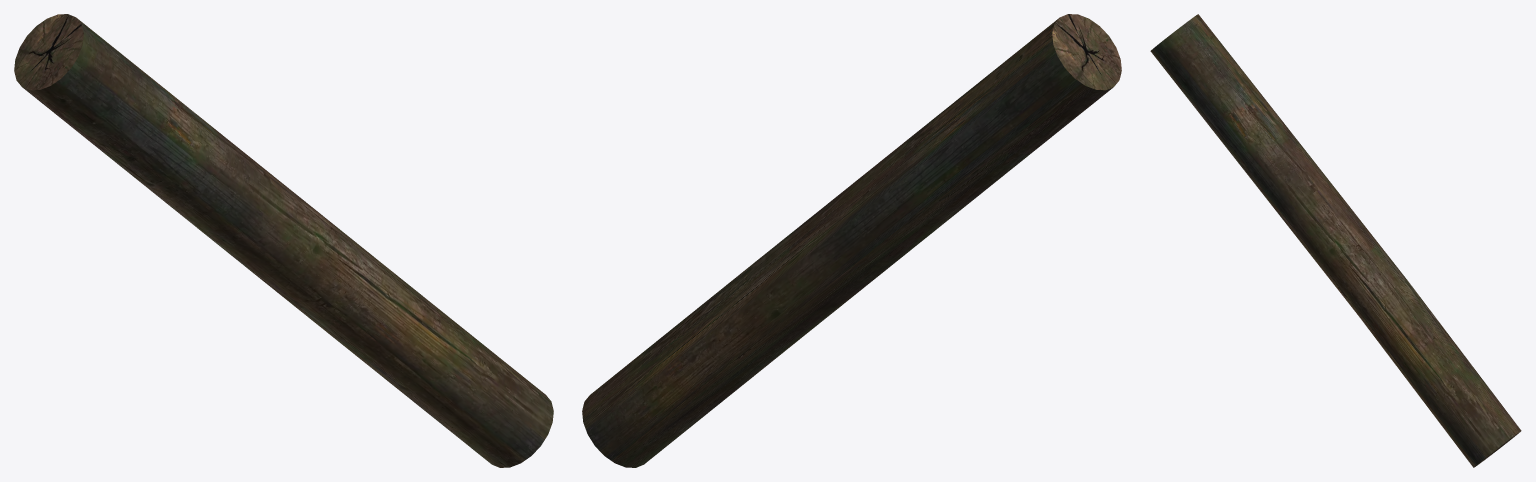
3 renders of one model, left to right at view 1: azimuth 30°, elevation 25°; view 2: azimuth 150°, elevation 25°; view 3: azimuth 330°, elevation 25°, orthographic. The views are drawn at different scales.
Parts seen in each view (by area): view 1: SM_BB_T1_Beam_Thick_Large_Diagonal_LOD0; view 2: SM_BB_T1_Beam_Thick_Large_Diagonal_LOD0; view 3: SM_BB_T1_Beam_Thick_Large_Diagonal_LOD0.
Part boxes in pixels (x1,y1,x2,y2): SM_BB_T1_Beam_Thick_Large_Diagonal_LOD0: [14, 14, 553, 467]; SM_BB_T1_Beam_Thick_Large_Diagonal_LOD0: [582, 14, 1121, 467]; SM_BB_T1_Beam_Thick_Large_Diagonal_LOD0: [1150, 14, 1521, 467].
Bounding box in the file's own units: 3.34 × 3.35 × 0.5012.
Materials: 1 (1 with a texture image).
